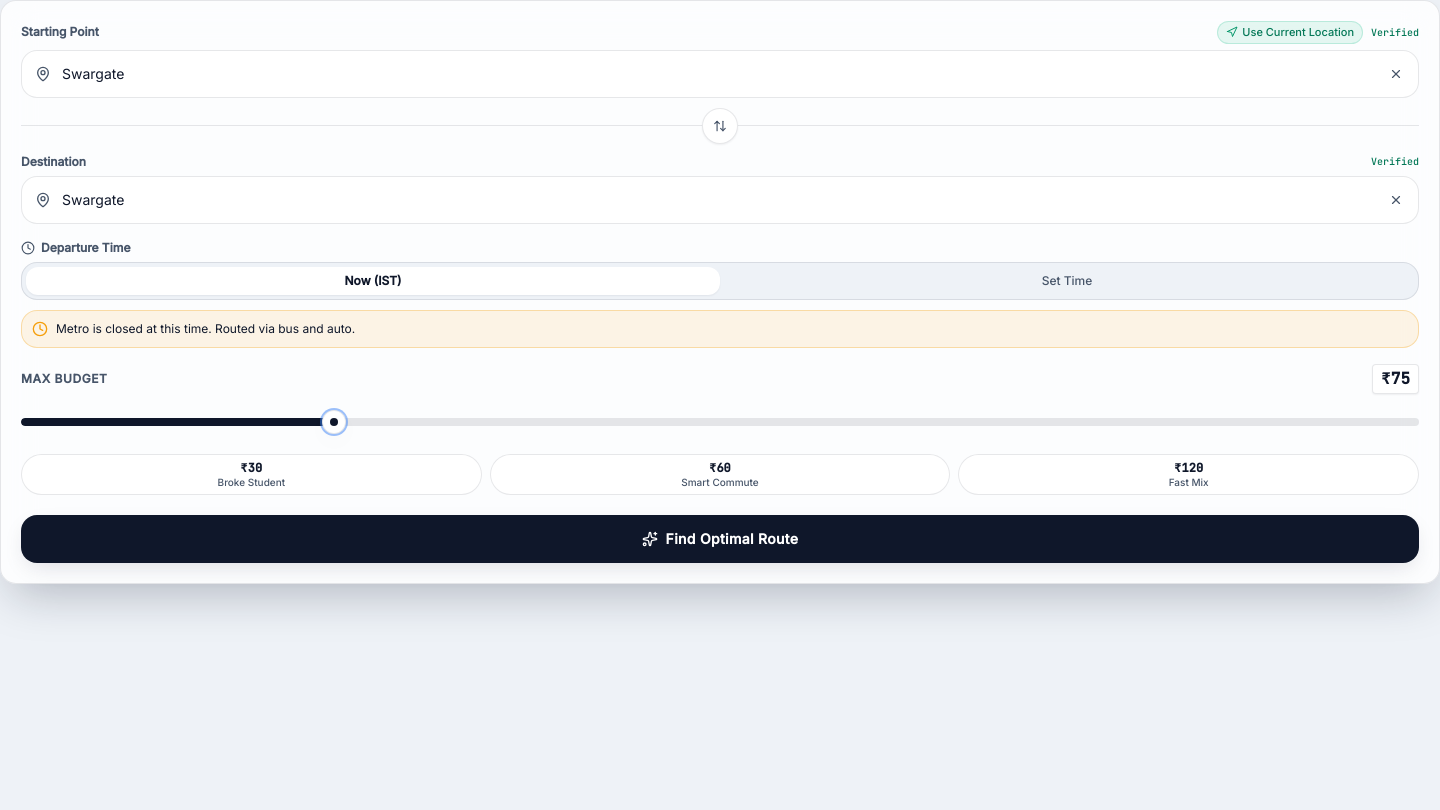
Test case: Dock Component › validates identical start and end locations
What coordinates should you click on to do the following:
click the button "Find Optimal Route"
I would click on:
 (720, 539)
Its box is [21,515,1419,563].
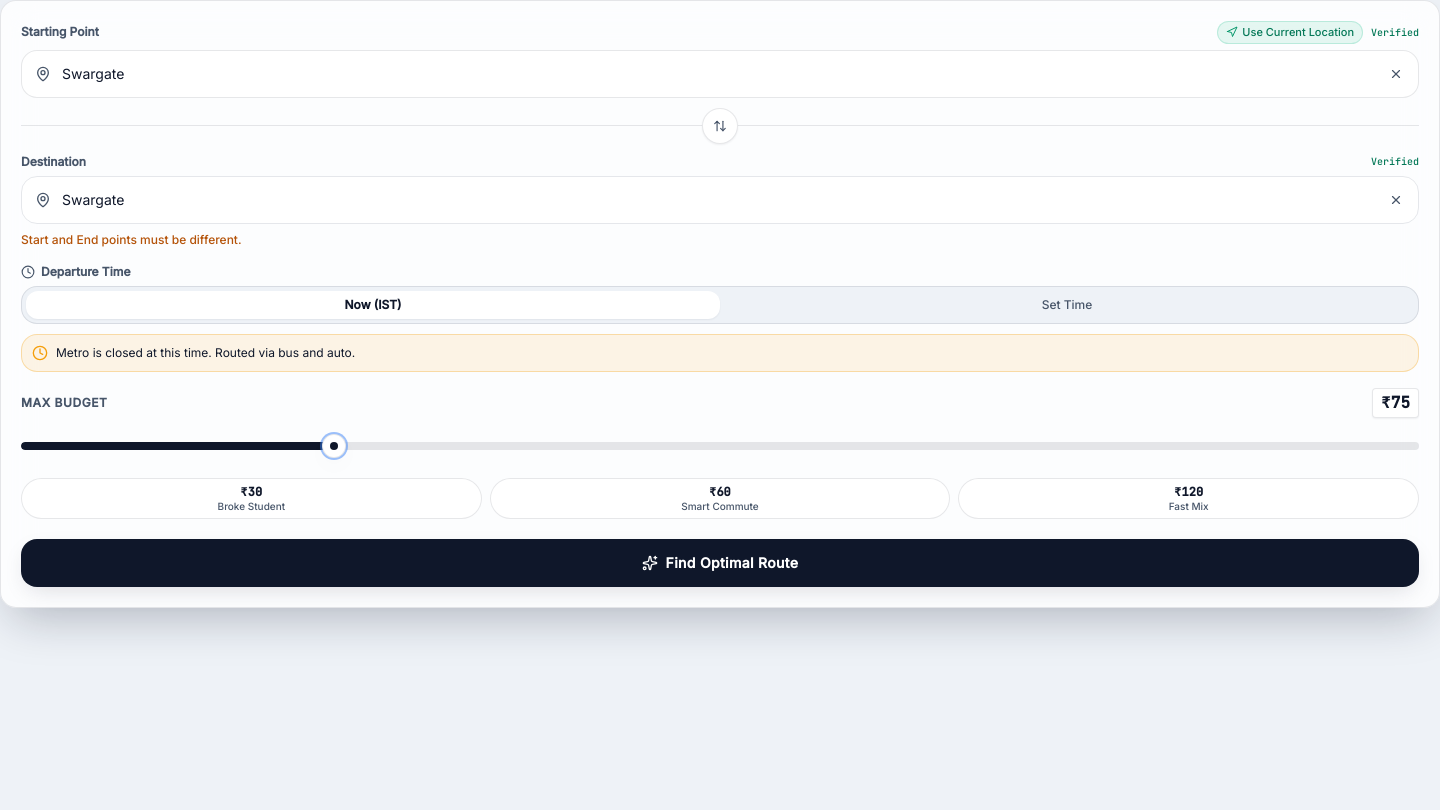
Now the text "Start and End points must be different." is shown, box [21,232,242,246]
